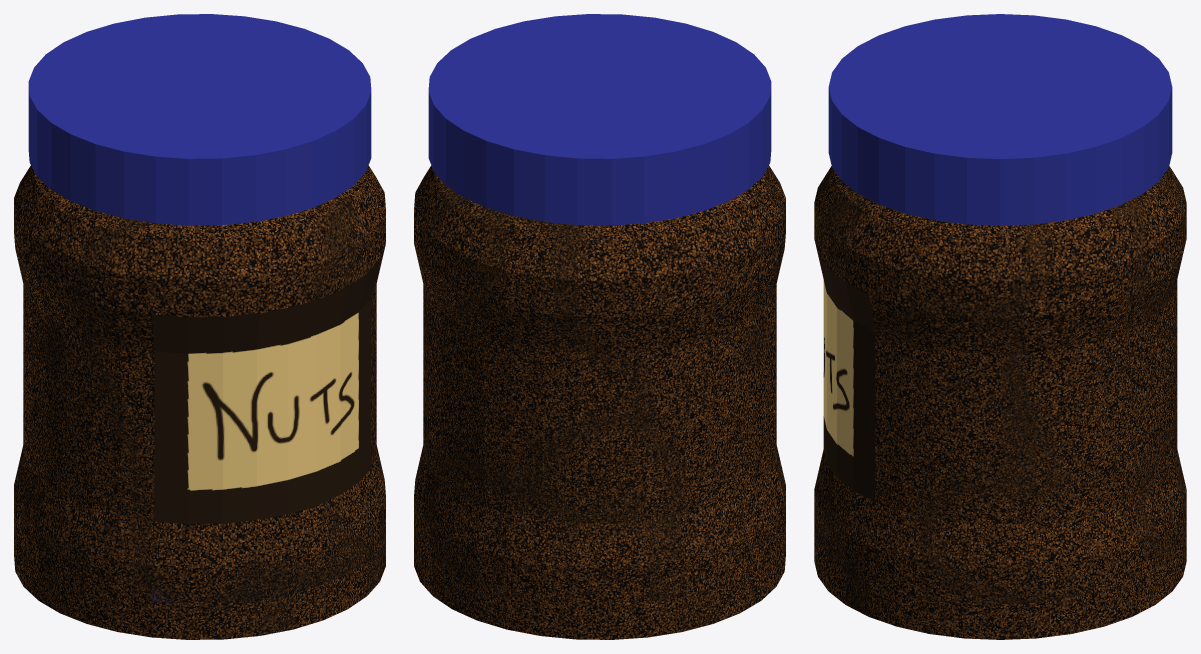
File: Nuts.fbx
The picture shows the model from 3 angles, left to right: view 1: azimuth 30°, elevation 25°; view 2: azimuth 150°, elevation 25°; view 3: azimuth 270°, elevation 25°; orthographic projection.
Visible parts, largest first — view 1: Circle; view 2: Circle; view 3: Circle.
Part boxes in pixels (x1,y1,x2,y2): Circle: (14, 14, 385, 639); Circle: (414, 14, 785, 639); Circle: (814, 14, 1186, 639).
Bounding box in the file's own units: 26.03 × 36.62 × 26.03.
